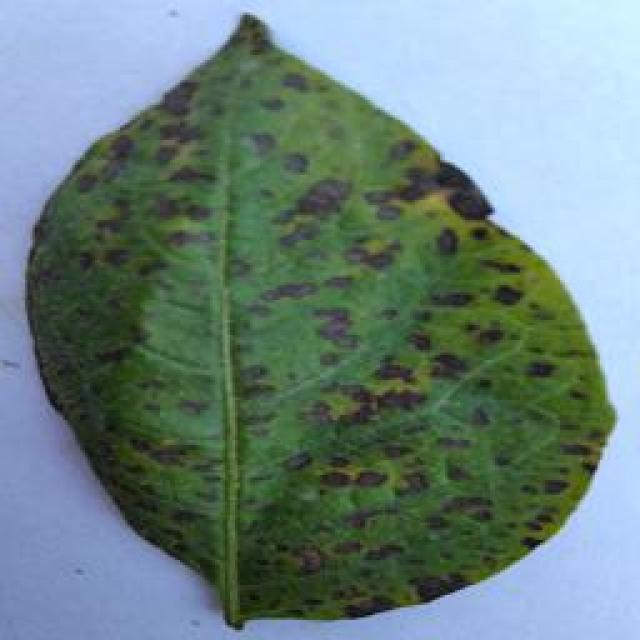Potato_Early_Blight: (3, 9, 627, 635)
